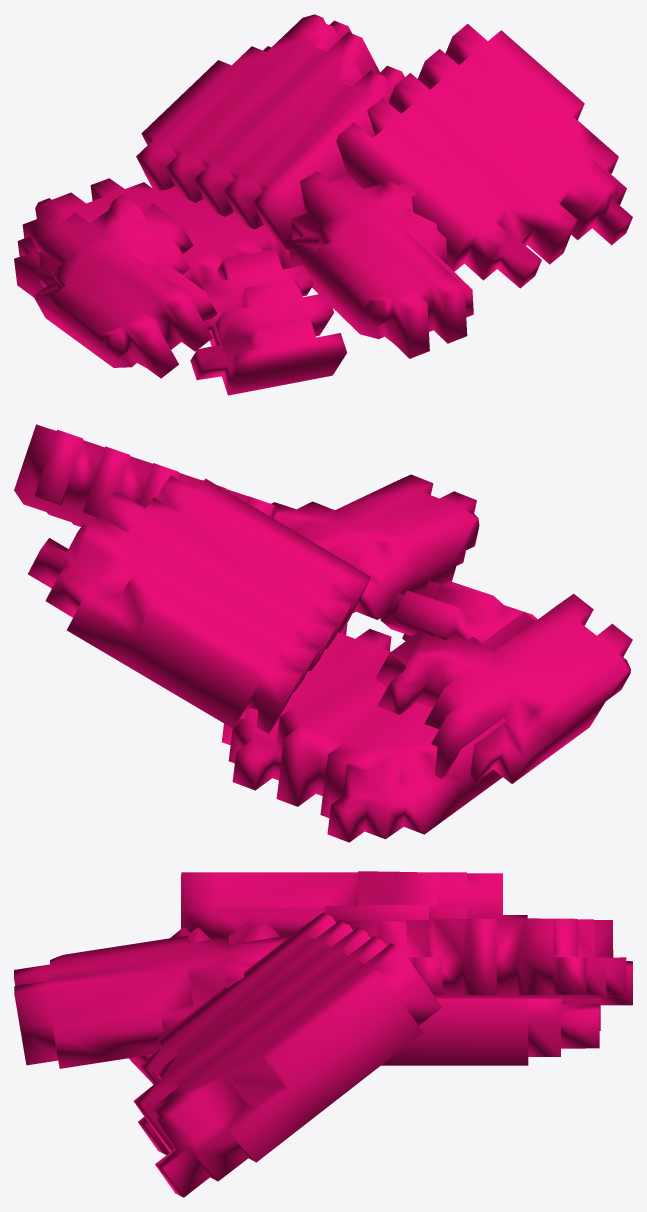
The model's file is Brick_Break_04_Lod0.fbx.
The picture shows the model from 3 angles, top to bottom: view 1: azimuth 30°, elevation 25°; view 2: azimuth 150°, elevation 25°; view 3: azimuth 270°, elevation 25°; orthographic projection. The views are drawn at different scales.
Visible parts, largest first — view 1: Brick_Break_04_Lod0; view 2: Brick_Break_04_Lod0; view 3: Brick_Break_04_Lod0.
Part boxes in pixels (bbox=[...]): Brick_Break_04_Lod0: bbox=[14, 14, 632, 395]; Brick_Break_04_Lod0: bbox=[14, 424, 632, 842]; Brick_Break_04_Lod0: bbox=[14, 871, 632, 1197].
Size of the model in its own units: 207 by 85.08 by 170.
